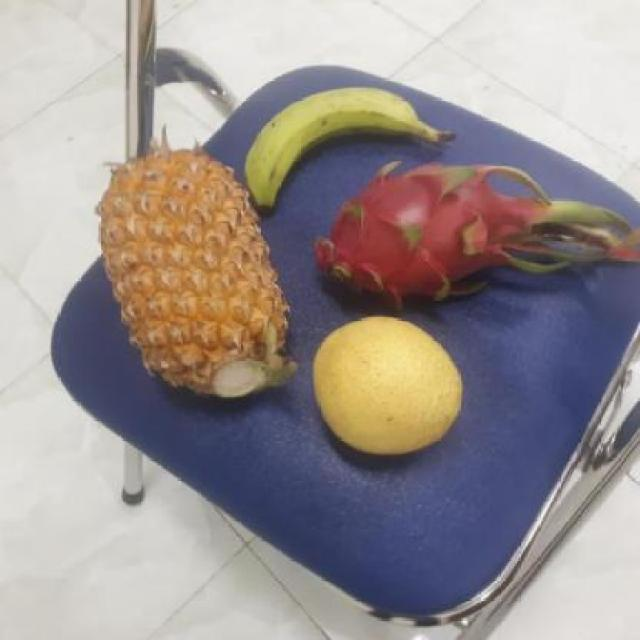banana: (243, 88, 434, 208)
dragon fruit: (306, 163, 532, 317)
pear: (308, 314, 450, 458)
pineapple: (94, 152, 291, 402)
